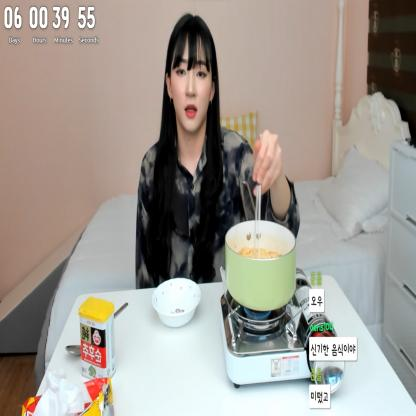streamer: (136, 13, 301, 289)
